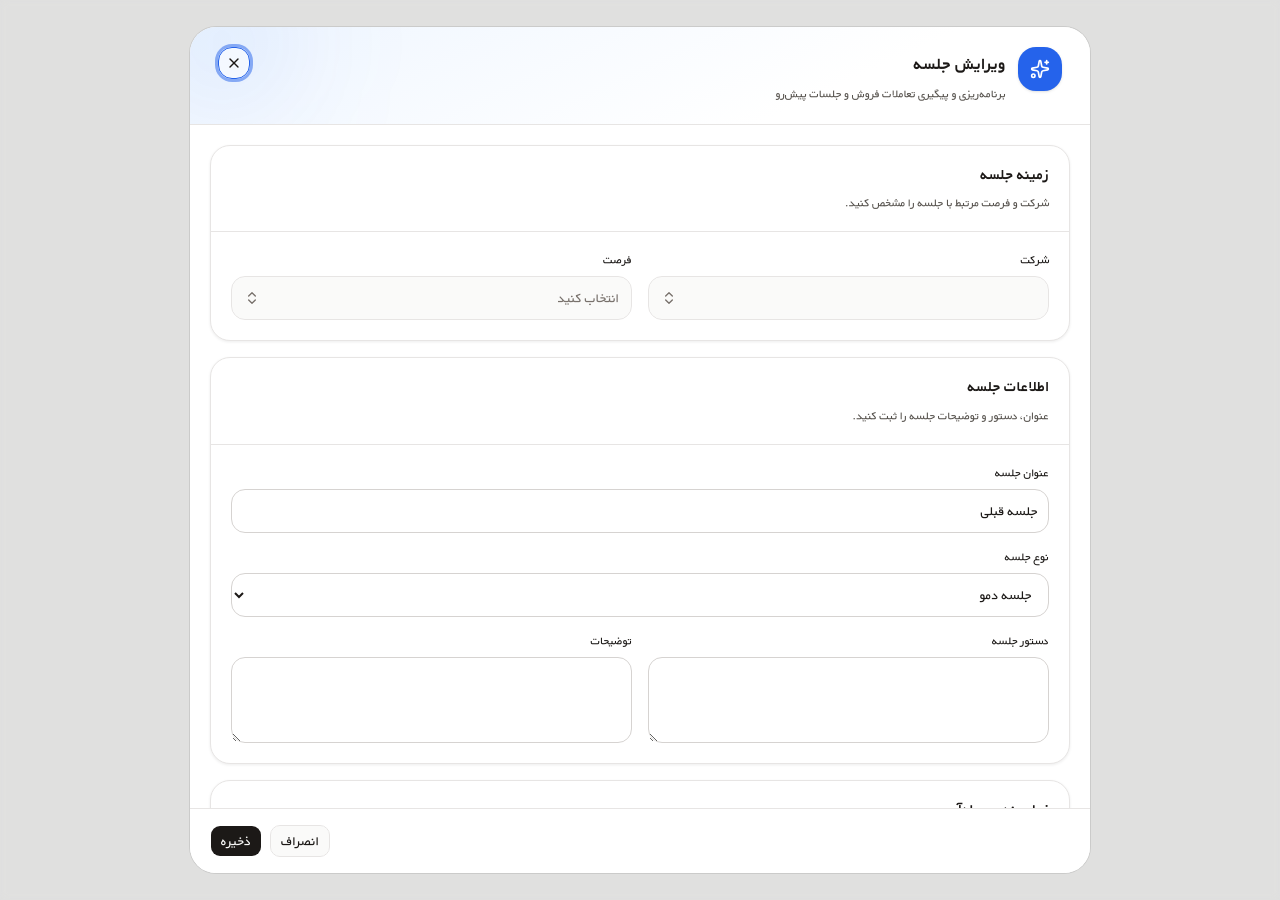
Meeting edit retains type, relationships and dates while mapping server field errors
Replace the text in the field showing "جلسه قبلی" with "جلسه جدید" at (640, 511), box [231,489,1049,533]
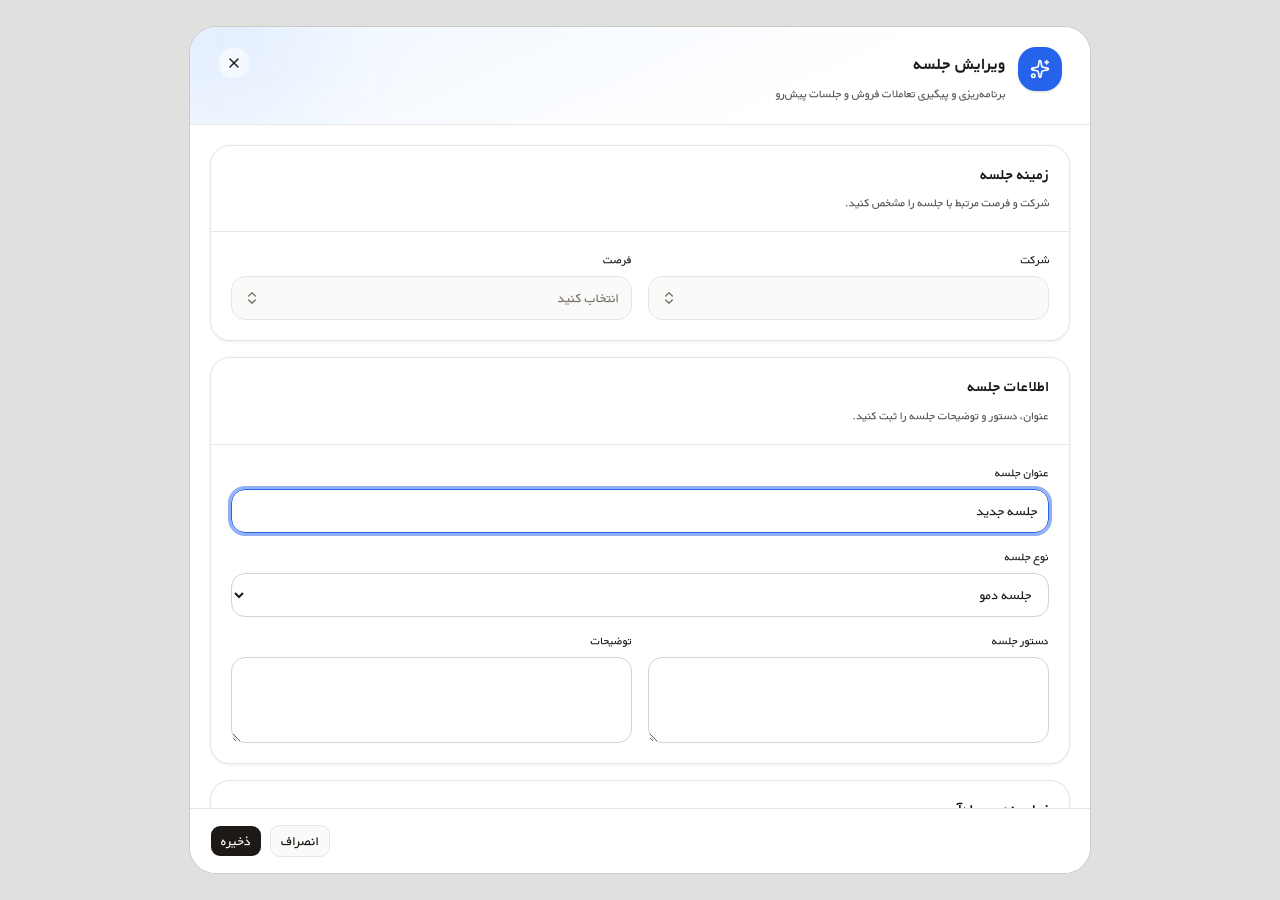
Click the button "ذخیره" at (236, 841), box [210,825,262,857]
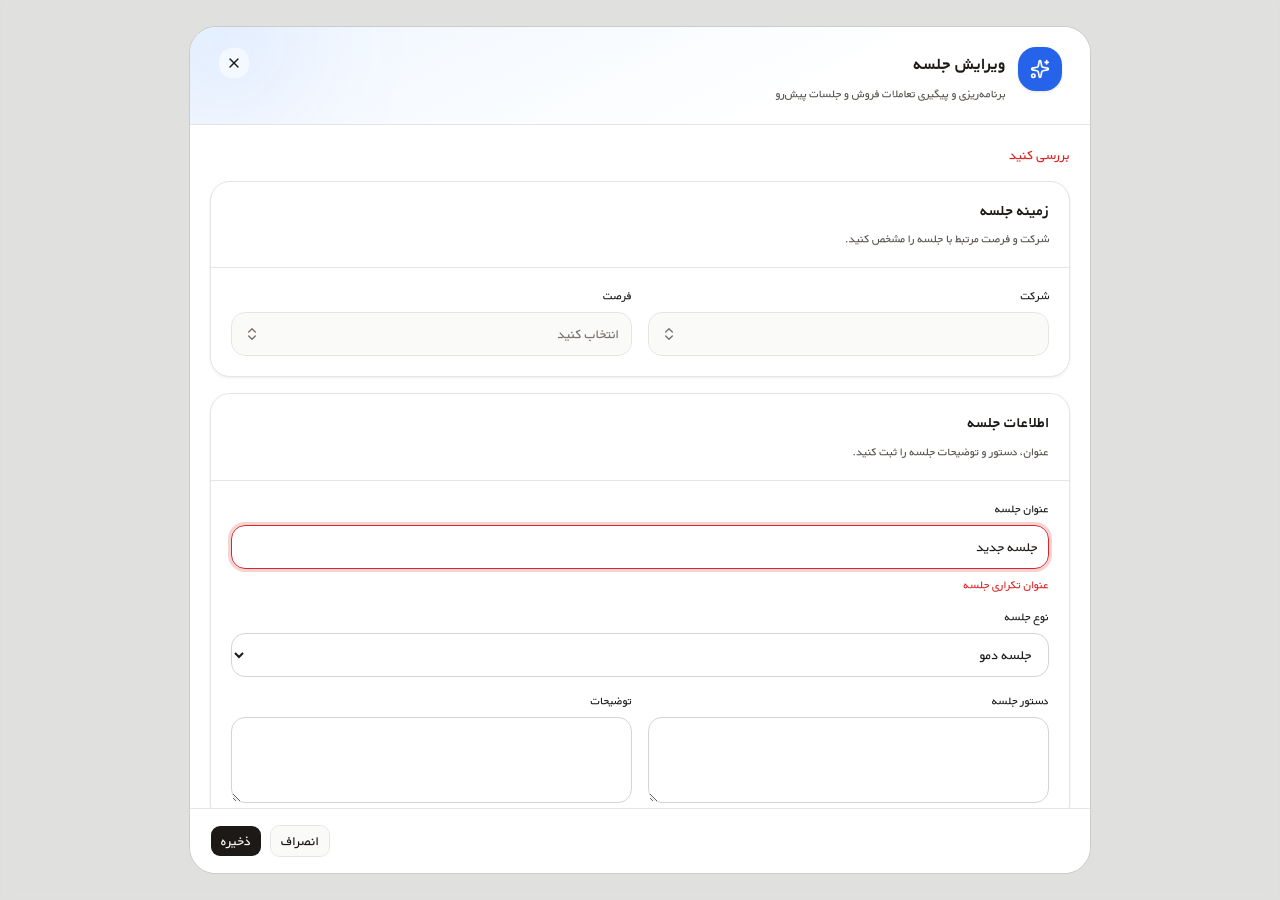
Expected: the text "عنوان تکراری جلسه" is shown, [964,576,1049,593]
